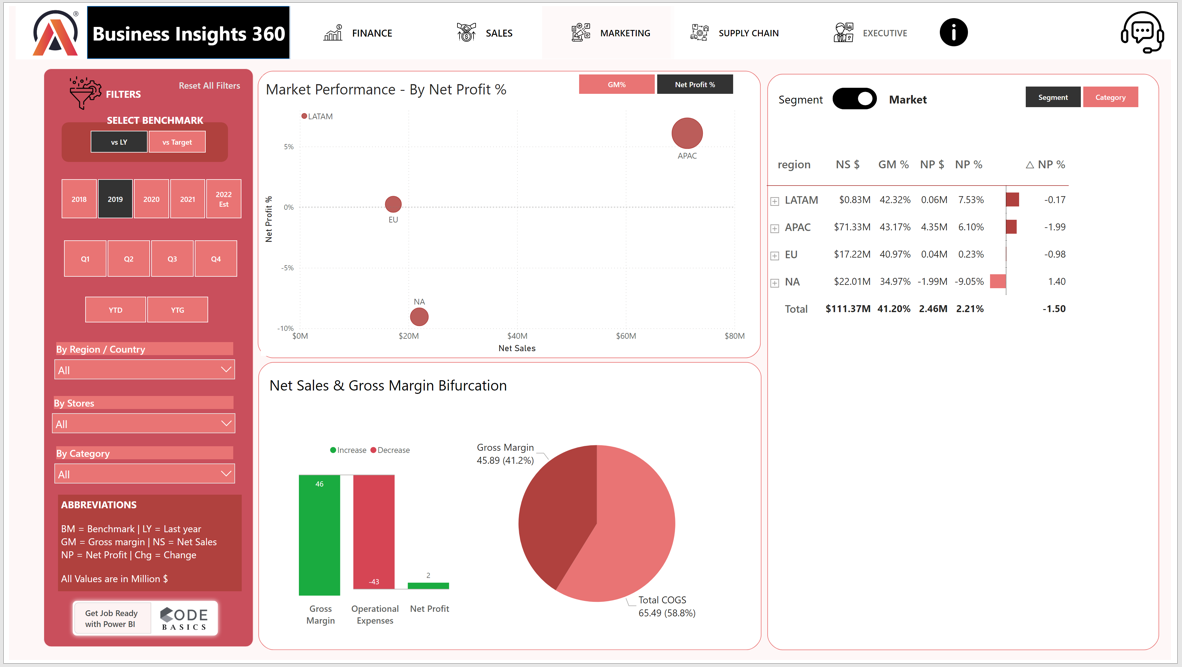

The dashboard page shown, as its layout file describes it:
{"tool":"powerbi","page":{"name":"Marketing View","canvas":[1920,1080],"ordinal":3},"visuals":[{"type":"shape","box":[10.9,0,1909.1,88],"z":0},{"type":"textbox","box":[419.1,115.3,423.3,48],"z":0,"group":"g2"},{"type":"shape","box":[97.6,974.8,254.3,72],"z":0,"group":"g1"},{"type":"image","box":[26.2,0,102.5,87.3],"z":1000},{"type":"textbox","box":[1263,125.3,104.7,37.1],"z":1000,"group":"g2"},{"type":"shape","box":[107.4,984.8,127,51.7],"z":1000,"group":"g1"},{"type":"shape","box":[128.7,0,336,87.3],"z":2000},{"type":"scatterChart","fields":{"Category":["gdb041 dim_market.region","gdb041 dim_market.market"],"Y":["Report Measure.Net Profit %"],"X":["Report Measure.Net Sales"],"Size":["Report Measure.Net Sales"]},"box":[416.5,158,804.7,419.8],"z":2000,"group":"g2"},{"type":"image","box":[240.3,991.8,96,40],"z":2000,"group":"g1"},{"type":"actionButton","box":[462.5,0,220.4,87.3],"z":3000},{"type":"pivotTable","fields":{"Rows":["gdb041 dim_market.region","gdb041 dim_market.market"],"Values":["Report Measure.Net Sales","Report Measure.GM%","Report Measure.Net Profit","Report Measure.Net Profit %","Report Measure.Bar Net Profit %","Report Measure.NP % new"]},"box":[1247.8,232.2,648,632.7],"z":3000,"group":"g2"},{"type":"actionButton","box":[676.4,0,218.2,87.3],"z":4000},{"type":"slicer","fields":{"Values":["Param 2: Segment Vs Category.Param 2: Segment Vs Category"]},"box":[1653.6,125.3,237.8,50.2],"z":4000,"group":"g2"},{"type":"actionButton","box":[881.5,0,218.2,87.3],"z":5000},{"type":"textbox","box":[1256.5,136.2,104.7,37.1],"z":5000,"group":"g2"},{"type":"actionButton","box":[1093.1,0,218.2,87.3],"z":6000},{"type":"textbox","box":[1433.2,136.2,104.7,37.1],"z":6000,"group":"g2"},{"type":"actionButton","box":[1306.9,0,218.2,87.3],"z":7000},{"type":"image","box":[1353,112.2,86.9,81.5],"z":7000,"group":"g2"},{"type":"image","box":[1525.1,15.3,72,56.7],"z":8000},{"type":"image","box":[1826.2,2.2,93.8,82.9],"z":9000},{"type":"shape","box":[56.7,102.5,346.9,955.6],"z":10000},{"type":"image","box":[91.6,111.3,69.8,65.5],"z":11000},{"type":"textbox","box":[139.6,128.7,98.2,39.3],"z":12000},{"type":"slicer","fields":{"Values":["fiscal_year.fy_description"]},"box":[61.1,279.3,346.9,78.5],"z":13000},{"type":"slicer","fields":{"Values":["dim_date.Quarter"]},"box":[65.5,379.6,336,74.2],"z":14000},{"type":"slicer","fields":{"Values":["dim_date.ytd_ytg"]},"box":[100.4,473.5,253.1,56.7],"z":15000},{"type":"slicer","fields":{"Values":["gdb041 dim_market.region","gdb041 dim_market.market"]},"box":[65.5,549.8,318.5,72],"z":16000},{"type":"slicer","fields":{"Values":["gdb041 dim_product.category"]},"box":[65.5,722.2,318.5,76.4],"z":17000},{"type":"slicer","fields":{"Values":["gdb041 dim_customer.customer"]},"box":[61.1,639.3,322.9,76.4],"z":18000},{"type":"group","id":"g1","title":"Group 4","box":[97.6,974.8,255.3,72],"z":19000},{"type":"textbox","box":[80.7,807.3,303.3,159.3],"z":20000},{"type":"shape","box":[87.3,192,274.9,65.5],"z":21000},{"type":"textbox","box":[150.5,172.4,181.1,39.3],"z":22000},{"type":"slicer","fields":{"Values":["Set BM.Benchmarks"]},"box":[109.1,198.5,240,50.2],"z":23000},{"type":"actionButton","box":[272.7,104.7,130.9,50.2],"z":24000},{"type":"shape","box":[411.4,107,831.1,474.5],"z":27000},{"type":"slicer","fields":{"Values":["Param mrkt 02: Performance matrix y axis.Param mrkt 01: Performance matrix y axis"]},"box":[915.5,104.7,306.3,48],"z":28000},{"type":"shape","box":[411.9,588.2,831.3,475.6],"z":29000},{"type":"textbox","box":[425.5,604.4,435.5,48],"z":30000},{"type":"waterfallChart","fields":{"Category":["P & L Rows.Description"],"Y":["Report Measure.P & L Values"]},"box":[425.5,713.5,346.9,318.5],"z":31000},{"type":"pieChart","fields":{"Y":["Report Measure.P & L Values"],"Category":["P & L Rows.Description"]},"box":[740.6,663.8,460.8,381.3],"z":32000},{"type":"shape","box":[1253.5,112.5,647.3,951.8],"z":33000},{"type":"group","id":"g2","title":"Market View","box":[416.5,112.2,1479.3,752.7],"z":34000}]}

Visuals, with their boxes on the page's 1920x1080 design canvas (x1, y1, x2, y2). These are canvas units, not pixel positions in the 1182x667 screenshot, which may show the page scaled, cropped or inside an application window:
shape: detection(11, 0, 1920, 88)
textbox: detection(419, 115, 842, 163)
shape: detection(98, 975, 352, 1047)
image: detection(26, 0, 129, 87)
textbox: detection(1263, 125, 1368, 162)
shape: detection(107, 985, 234, 1036)
shape: detection(129, 0, 465, 87)
scatterChart - gdb041 dim_market.region x gdb041 dim_market.market: detection(416, 158, 1221, 578)
image: detection(240, 992, 336, 1032)
actionButton: detection(462, 0, 683, 87)
pivotTable - gdb041 dim_market.region x gdb041 dim_market.market: detection(1248, 232, 1896, 865)
actionButton: detection(676, 0, 895, 87)
slicer - Param 2: Segment Vs Category.Param 2: Segment Vs Category: detection(1654, 125, 1891, 176)
actionButton: detection(882, 0, 1100, 87)
textbox: detection(1256, 136, 1361, 173)
actionButton: detection(1093, 0, 1311, 87)
textbox: detection(1433, 136, 1538, 173)
actionButton: detection(1307, 0, 1525, 87)
image: detection(1353, 112, 1440, 194)
image: detection(1525, 15, 1597, 72)
image: detection(1826, 2, 1920, 85)
shape: detection(57, 102, 404, 1058)
image: detection(92, 111, 161, 177)
textbox: detection(140, 129, 238, 168)
slicer - fiscal_year.fy_description: detection(61, 279, 408, 358)
slicer - dim_date.Quarter: detection(66, 380, 402, 454)
slicer - dim_date.ytd_ytg: detection(100, 474, 354, 530)
slicer - gdb041 dim_market.region x gdb041 dim_market.market: detection(66, 550, 384, 622)
slicer - gdb041 dim_product.category: detection(66, 722, 384, 799)
slicer - gdb041 dim_customer.customer: detection(61, 639, 384, 716)
"Group 4" group: detection(98, 975, 353, 1047)
textbox: detection(81, 807, 384, 967)
shape: detection(87, 192, 362, 258)
textbox: detection(150, 172, 332, 212)
slicer - Set BM.Benchmarks: detection(109, 198, 349, 249)
actionButton: detection(273, 105, 404, 155)
shape: detection(411, 107, 1242, 582)
slicer - Param mrkt 02: Performance matrix y axis.Param mrkt 01: Performance matrix y axis: detection(916, 105, 1222, 153)
shape: detection(412, 588, 1243, 1064)
textbox: detection(426, 604, 861, 652)
waterfallChart - P & L Rows.Description x Report Measure.P & L Values: detection(426, 714, 772, 1032)
pieChart - Report Measure.P & L Values x P & L Rows.Description: detection(741, 664, 1201, 1045)
shape: detection(1254, 112, 1901, 1064)
"Market View" group: detection(416, 112, 1896, 865)
